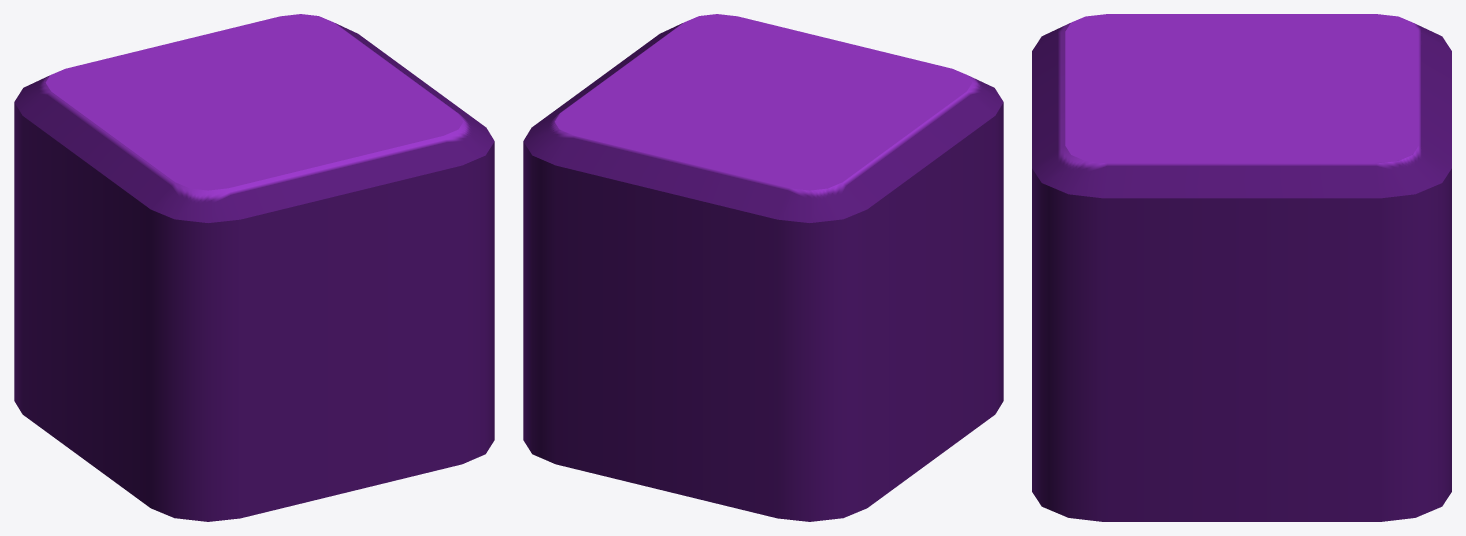
Rendered from cube_Violet.fbx.
3 renders of one model, left to right at view 1: azimuth 30°, elevation 25°; view 2: azimuth 150°, elevation 25°; view 3: azimuth 270°, elevation 25°, orthographic. The views are drawn at different scales.
Parts seen in each view (by area): view 1: cube_Violet; view 2: cube_Violet; view 3: cube_Violet.
Part boxes in pixels (x1,y1,x2,y2): cube_Violet: (14, 14, 494, 521); cube_Violet: (523, 14, 1003, 521); cube_Violet: (1032, 14, 1451, 521).
Bounding box in the file's own units: 100 × 90.58 × 100.
